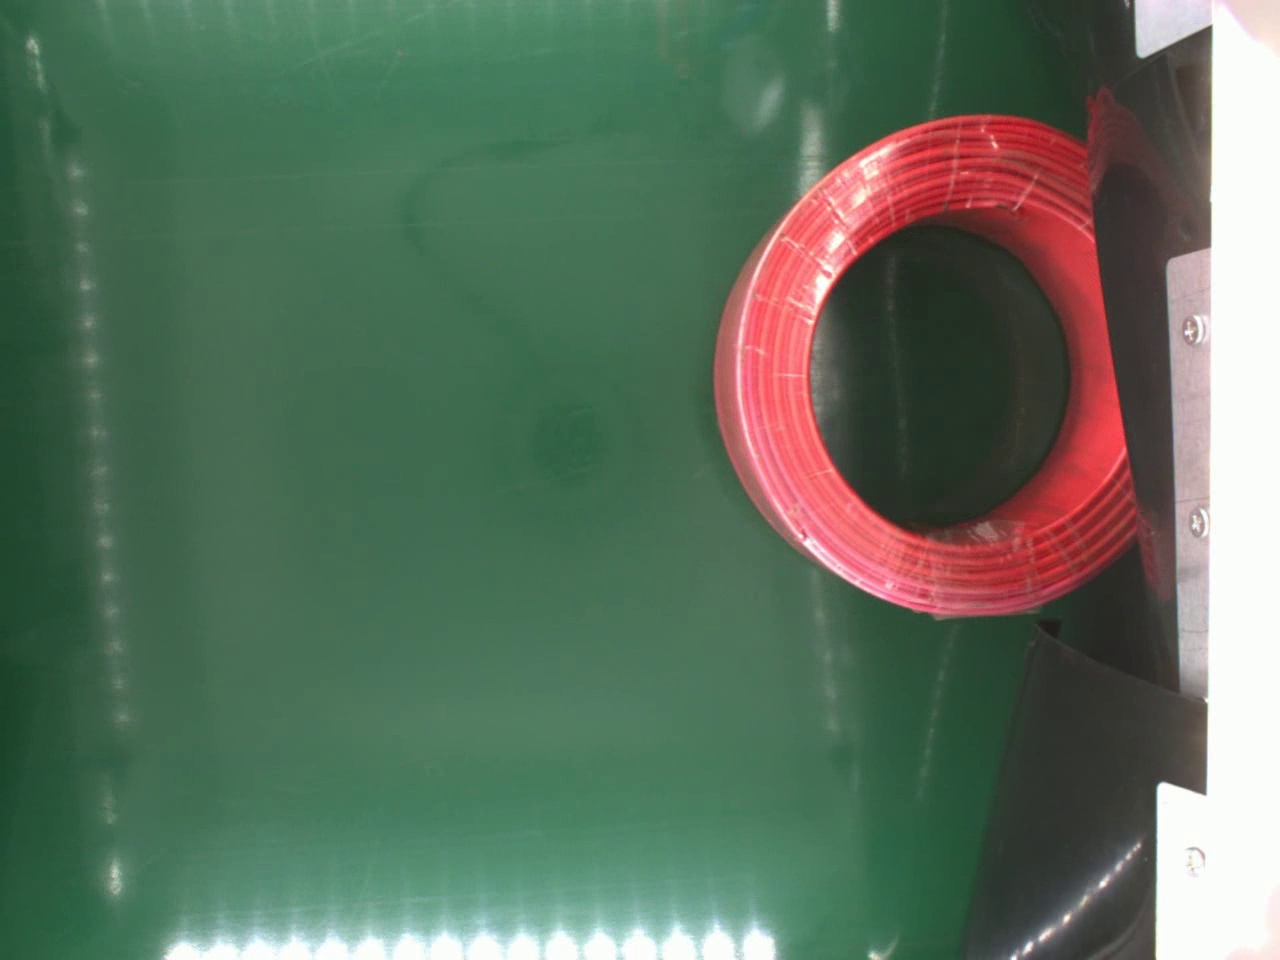red: (710, 103, 1136, 621)
